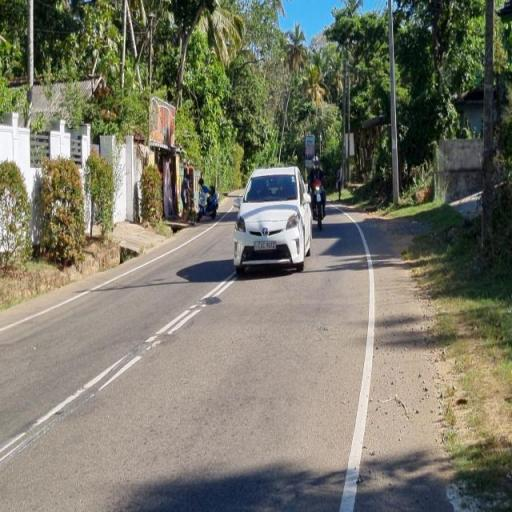double_white_line: (0, 321, 142, 465), (146, 273, 238, 351)
